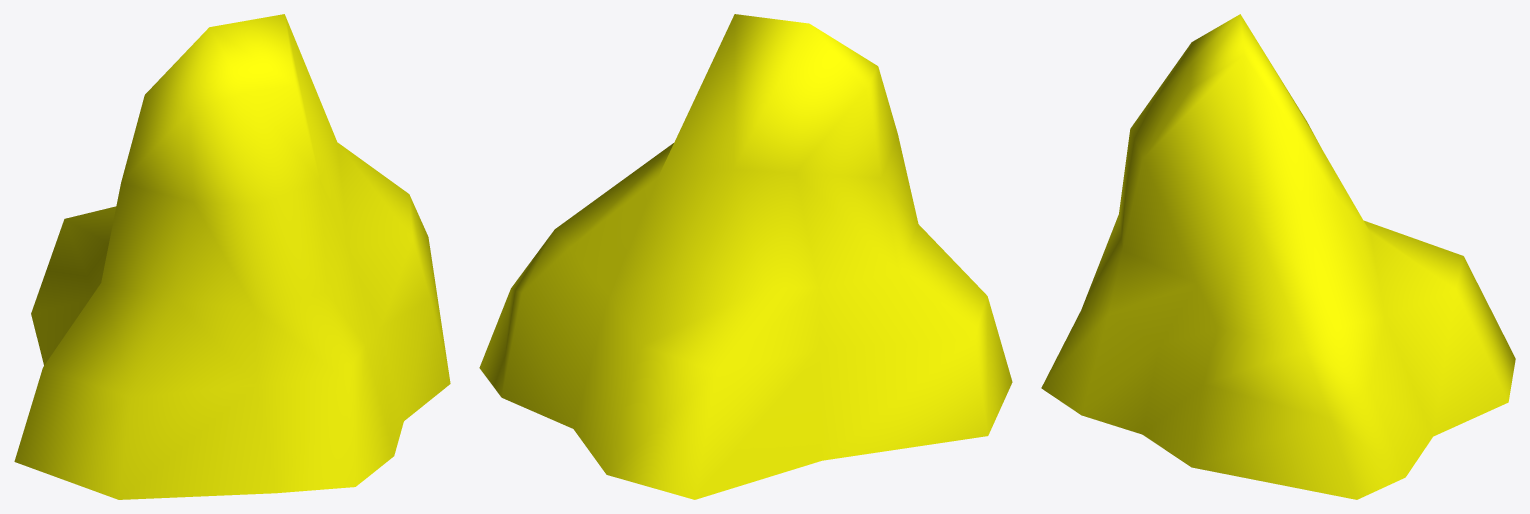
The model's file is general_obj_bigstone06.glb.
3 renders of one model, left to right at view 1: azimuth 30°, elevation 25°; view 2: azimuth 150°, elevation 25°; view 3: azimuth 270°, elevation 25°, orthographic. The views are drawn at different scales.
Visible parts, largest first — view 1: Sphere01fs; view 2: Sphere01fs; view 3: Sphere01fs.
Part boxes in pixels (x1,y1,x2,y2): Sphere01fs: (14,14,450,499); Sphere01fs: (479,14,1012,499); Sphere01fs: (1041,14,1515,499).
Size of the model in its own units: 19.95 by 15.49 by 18.64.
Materials: 1 (1 with a texture image).
